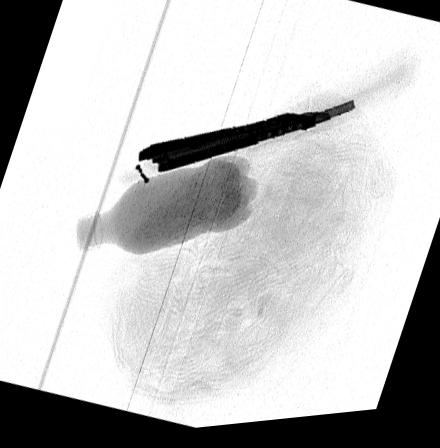Knife: (137, 107, 356, 176)
